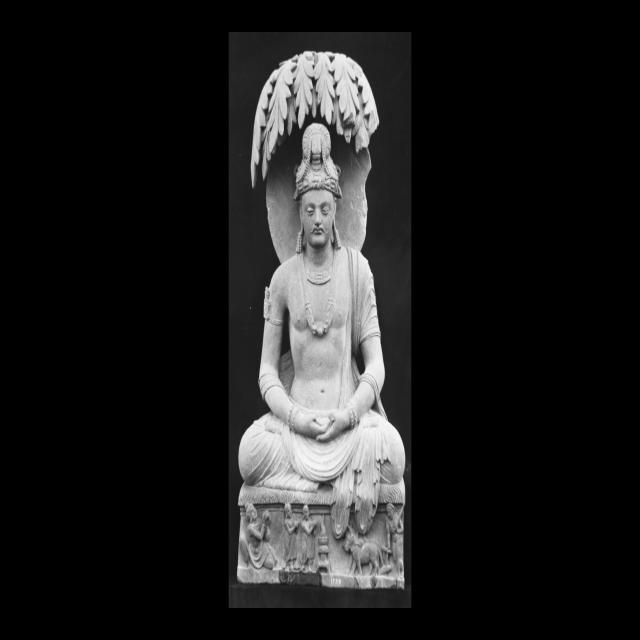buddha-sitting: (238, 44, 404, 589)
